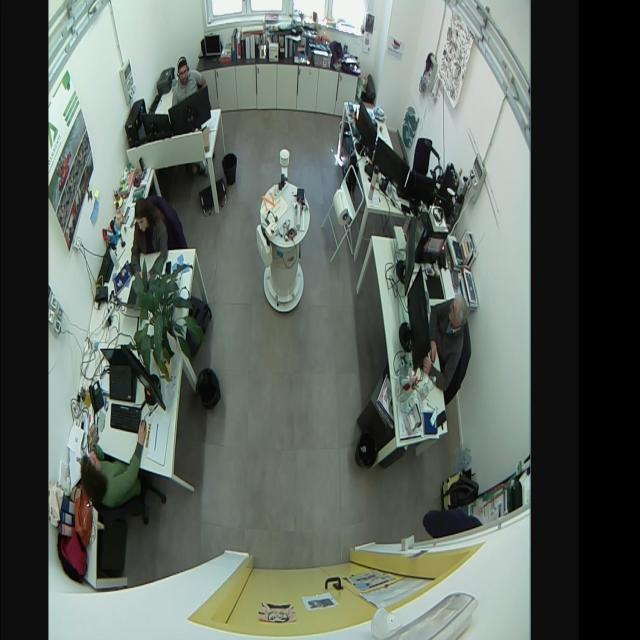Close: (234, 556, 365, 640)
Persona: (81, 419, 147, 511), (423, 292, 469, 390), (131, 199, 167, 275), (172, 56, 207, 106)
